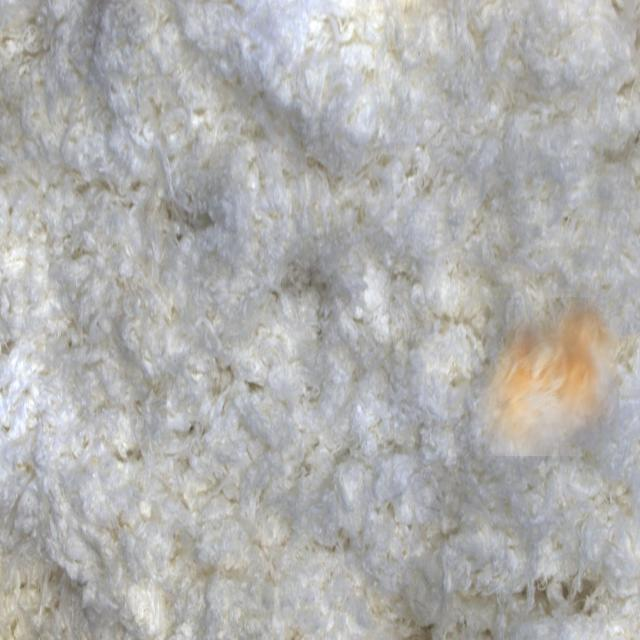dust: (471, 298, 620, 457)
